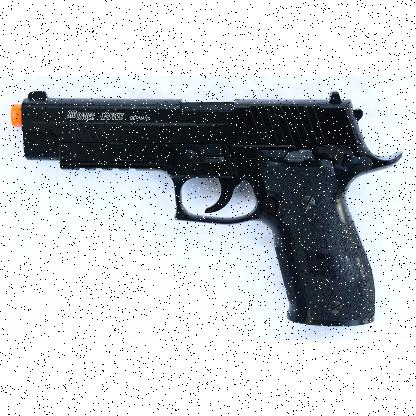gun: (9, 89, 403, 325)
